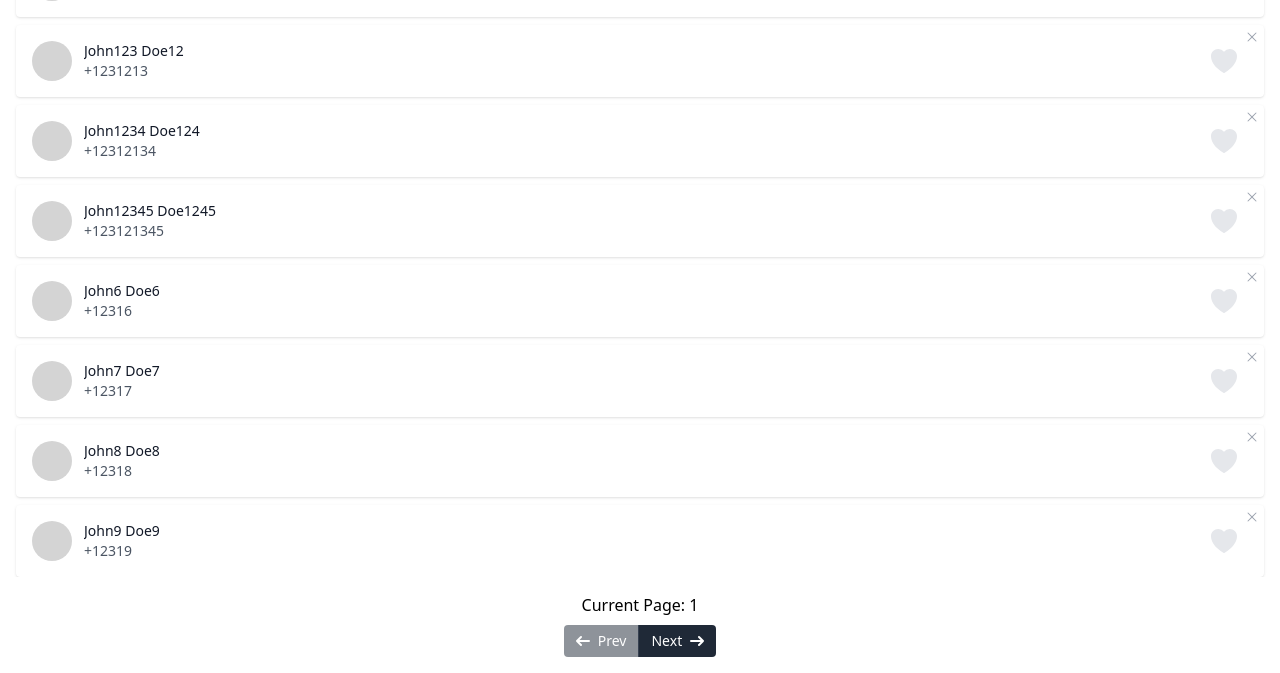
Test case: Contact List › Render List with Paging Correctly
(page scrolled)
expect the element with test id "contact-list-pagination" is shown: met, box [564,594,716,657]
expect the button with test id "contact-list-pagination-prev-button" is disabled: met, box [564,625,638,657]
Click the button with test id "contact-list-pagination-next-button" at [677, 641], box [638,625,716,657]
(page scrolled)
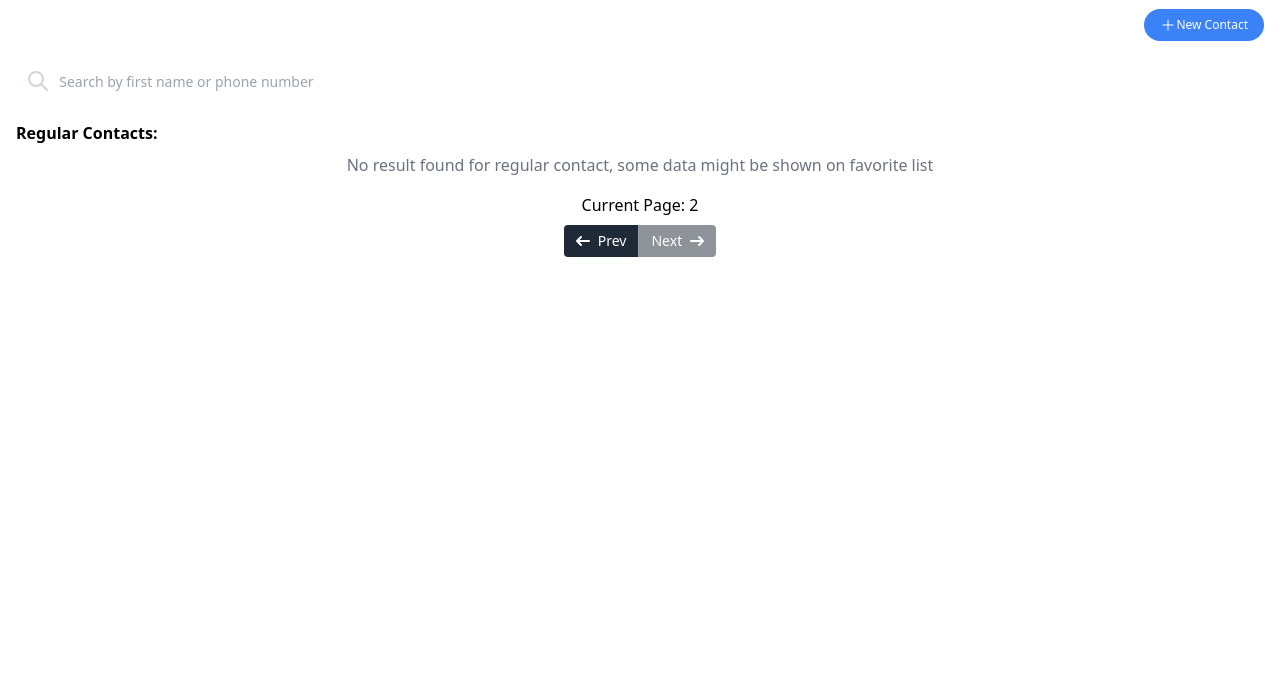
expect the text with test id "contact-list-empty" is shown: met, box [347,154,933,176]
expect the button with test id "contact-list-pagination-next-button" is disabled: met, box [638,225,716,257]
expect the button with test id "contact-list-pagination-prev-button" is enabled: met
// back to first page and the button should be disabled back
Click the button with test id "contact-list-pagination-prev-button" at [601, 241], box [564,225,638,257]
(page scrolled)
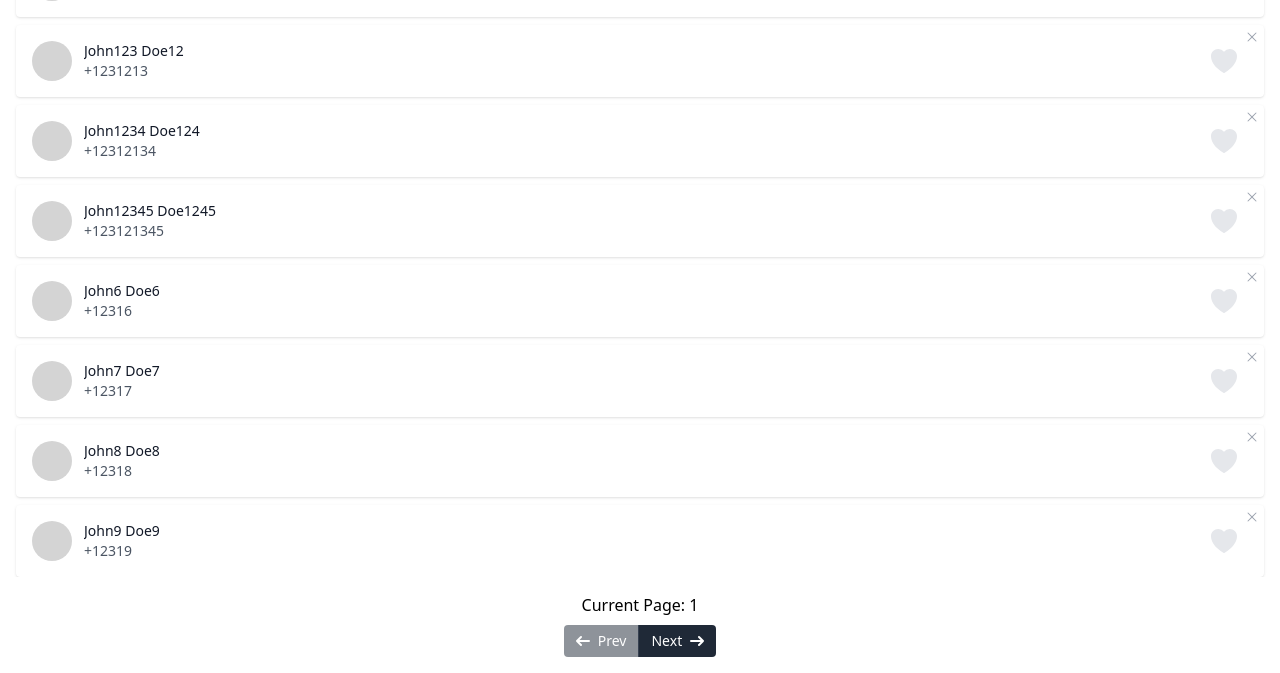
expect the button with test id "contact-list-pagination-prev-button" is disabled: met, box [564,625,638,657]
